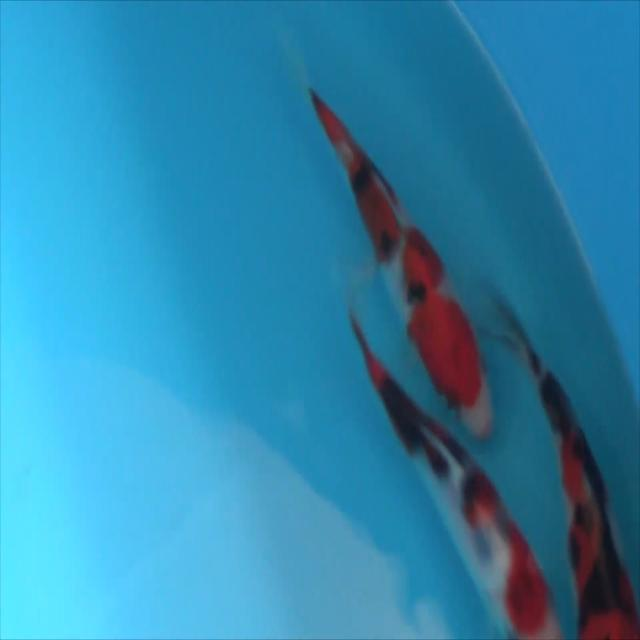Sanke: (347, 308, 562, 638), (308, 84, 494, 442), (480, 277, 639, 638)
